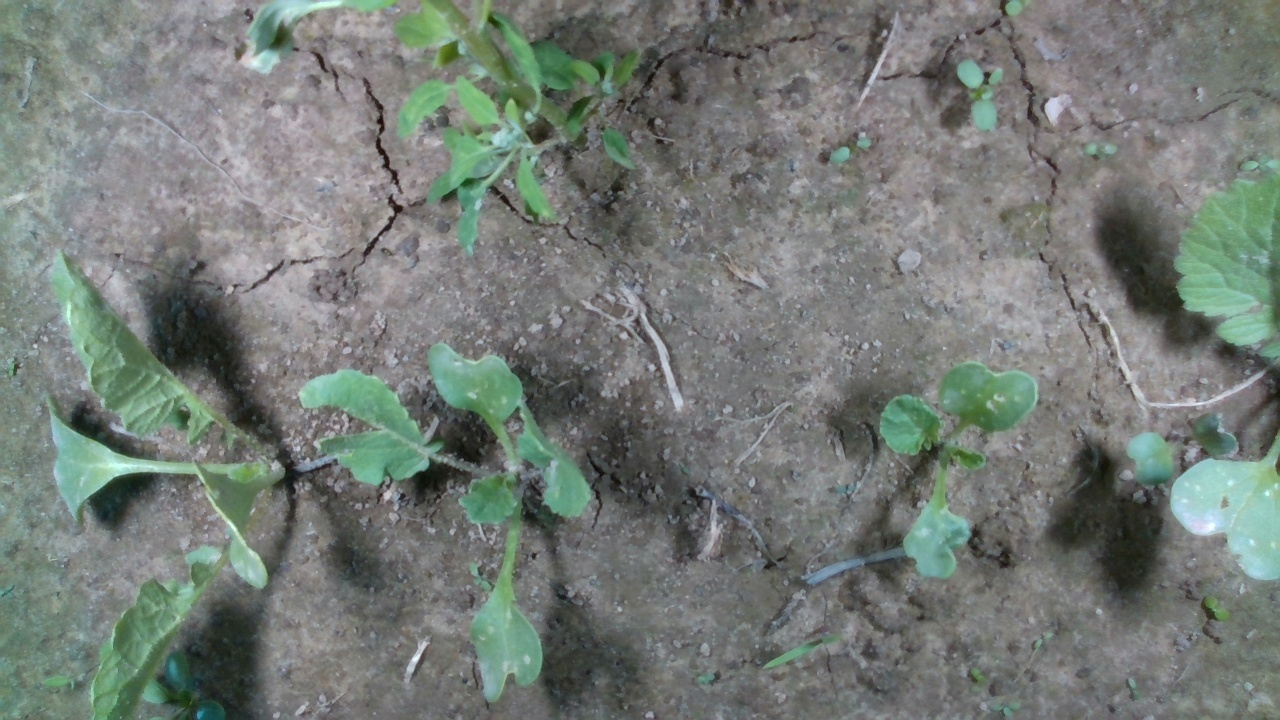weed: (1201, 593, 1231, 623)
